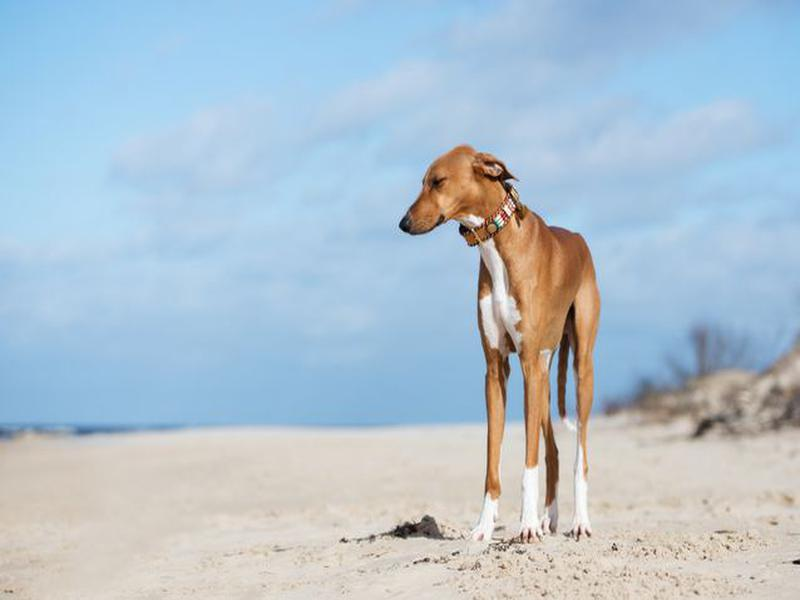dog_stand: (398, 139, 605, 554)
